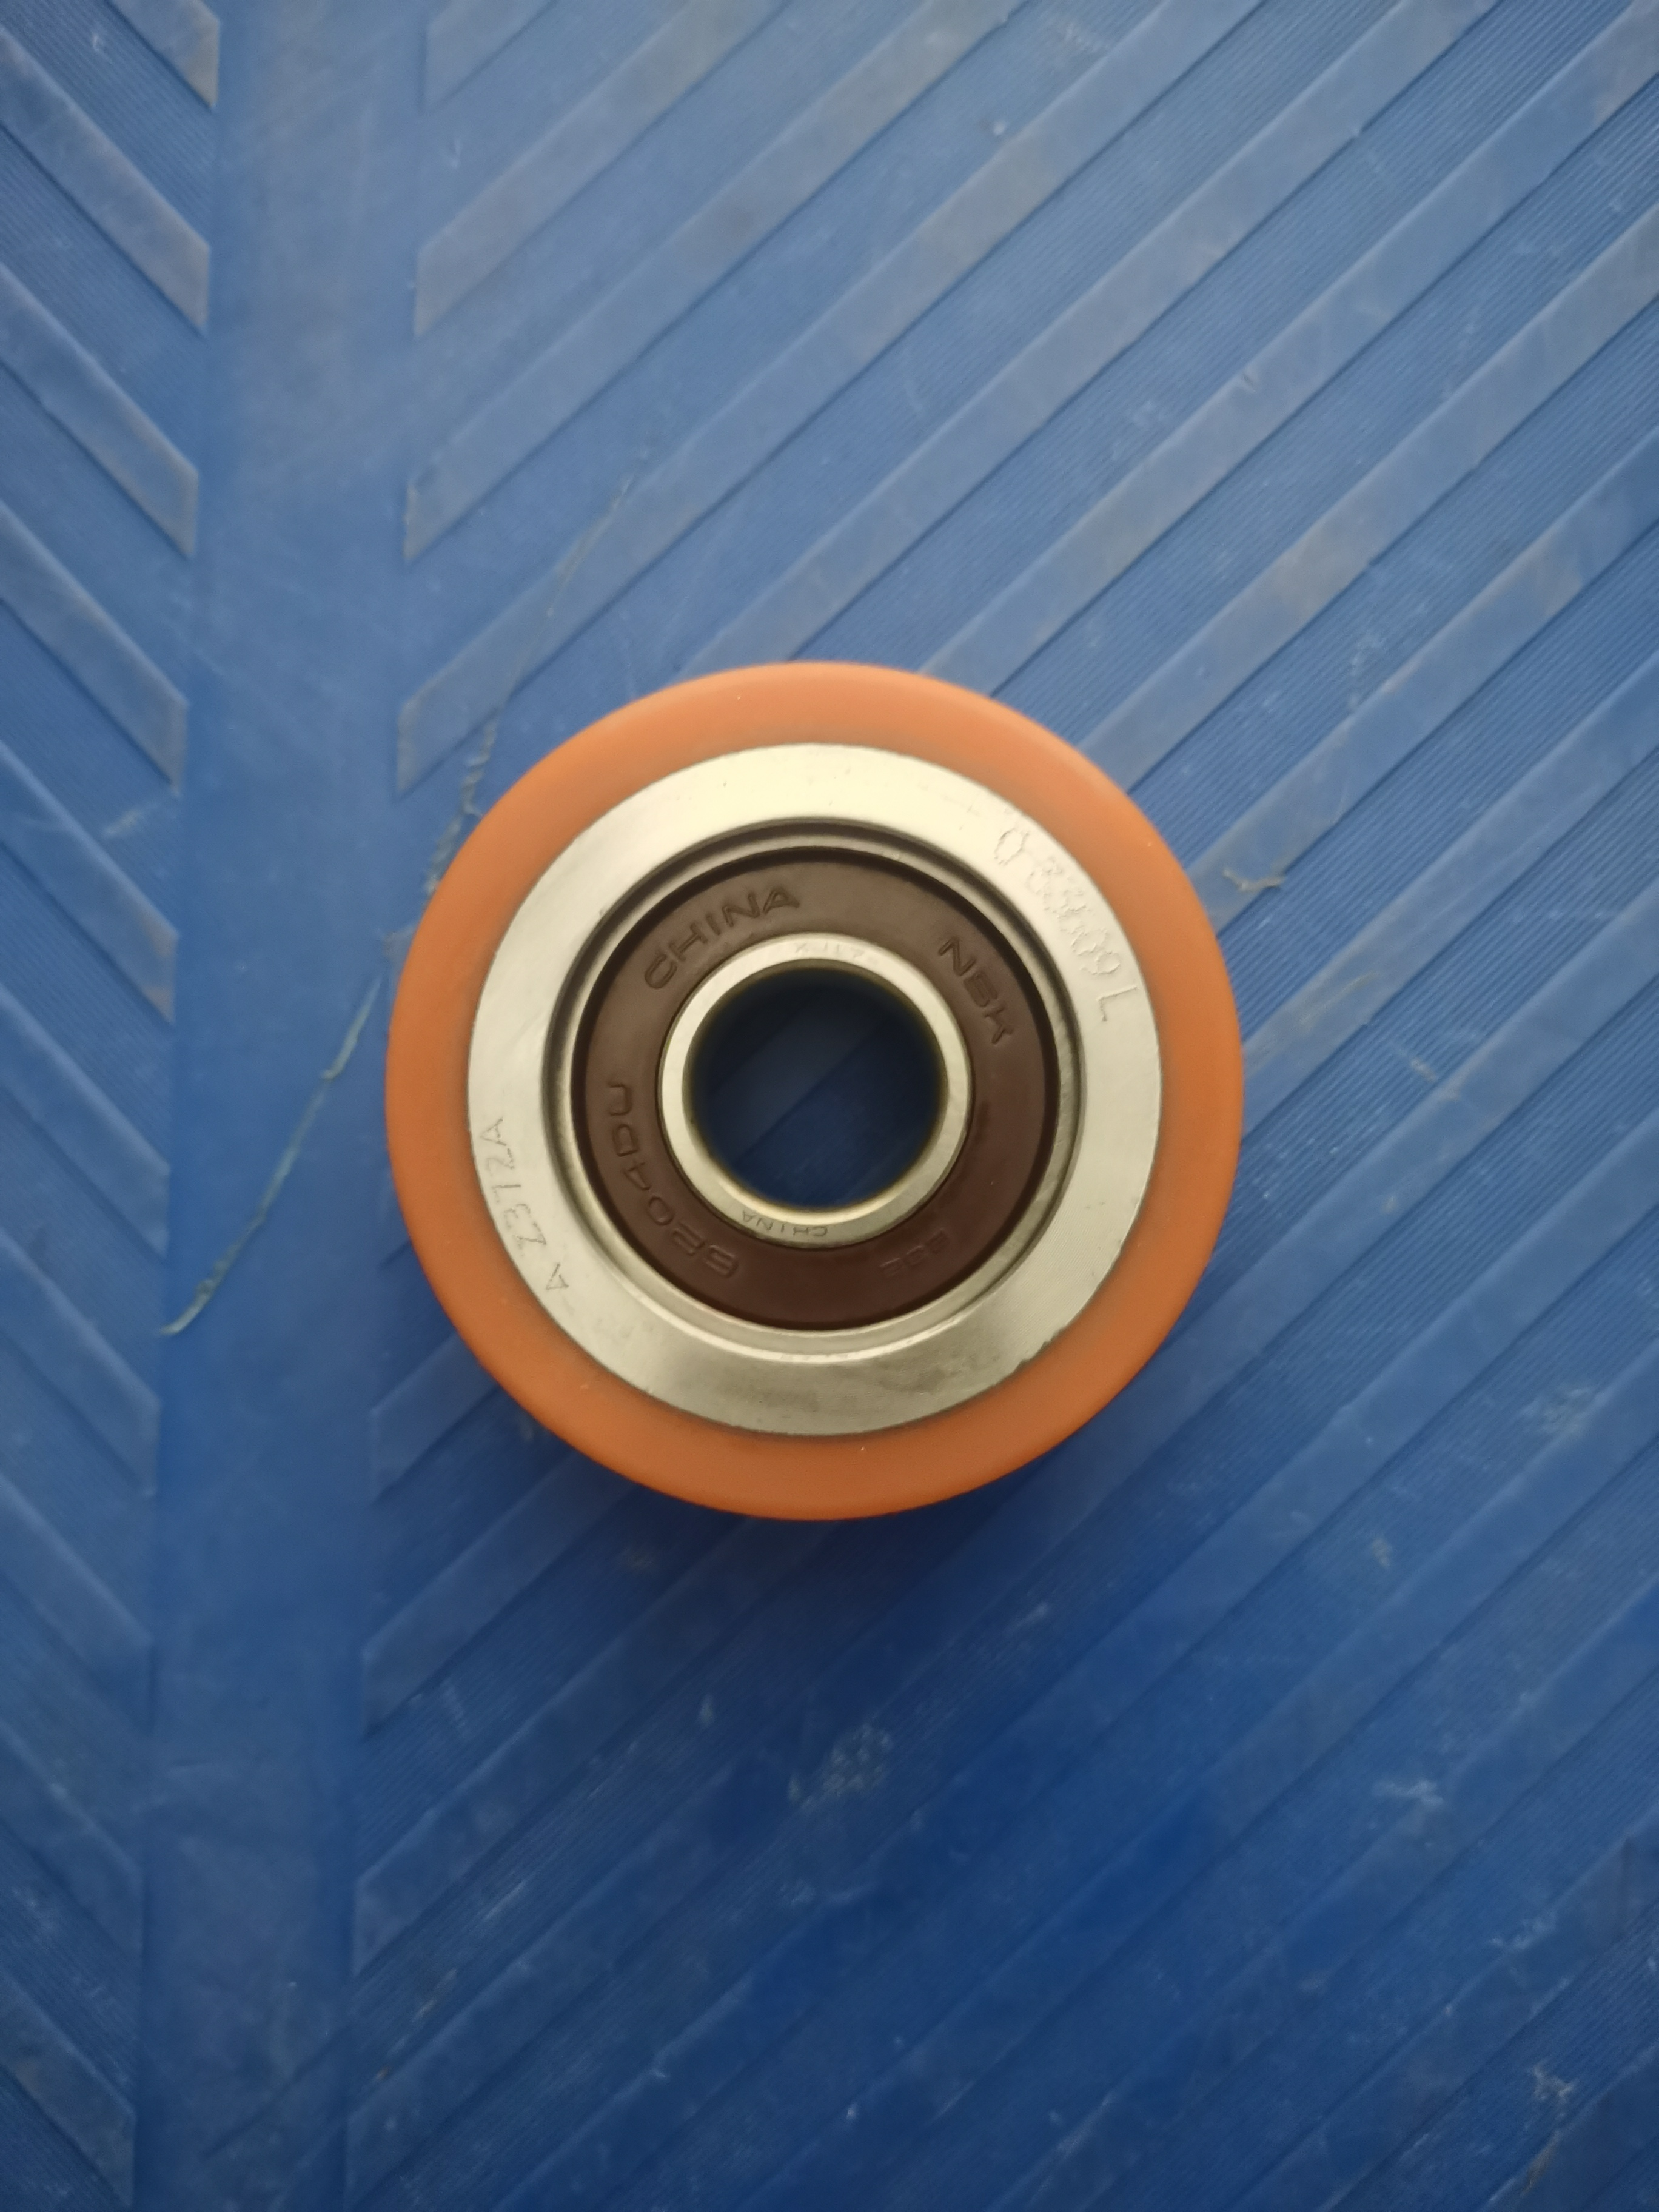good_wheel: (326, 624, 1297, 1578)
